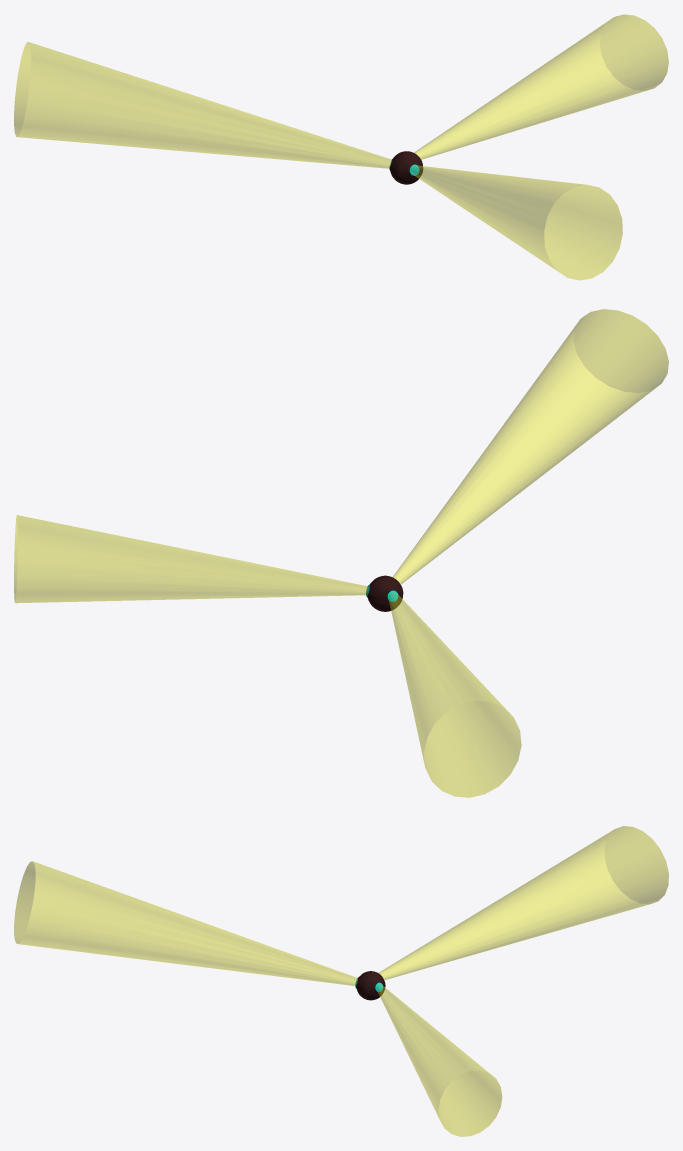
File: Lights1.fbx
The picture shows the model from 3 angles, top to bottom: view 1: azimuth 30°, elevation 25°; view 2: azimuth 150°, elevation 25°; view 3: azimuth 270°, elevation 25°; orthographic projection. The views are drawn at different scales.
Visible parts, largest first — view 1: pCylinder17; view 2: pCylinder17; view 3: pCylinder17.
Boxes of the visible parts, left/top/right/bottom form: pCylinder17: left=14, top=14, right=668, bottom=280; pCylinder17: left=14, top=309, right=668, bottom=797; pCylinder17: left=14, top=826, right=668, bottom=1136.
Size of the model in its own units: 5158 by 1409 by 5959.
